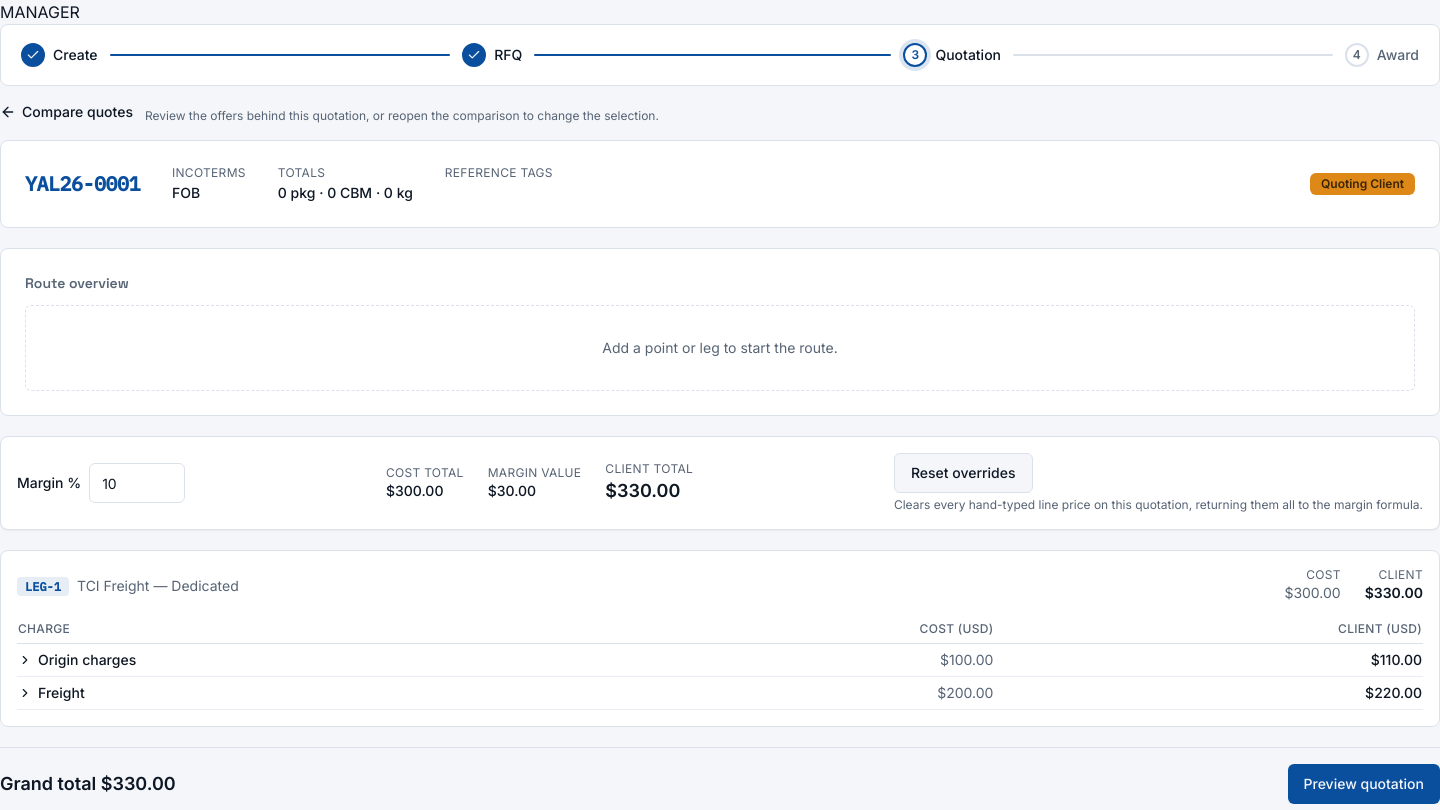
Test: QuotationPage › typing a margin recalculates unpinned lines and the grand total
Replace the text in the number field labelled "Margin %" with "20" at (137, 483), box [89, 463, 185, 503]
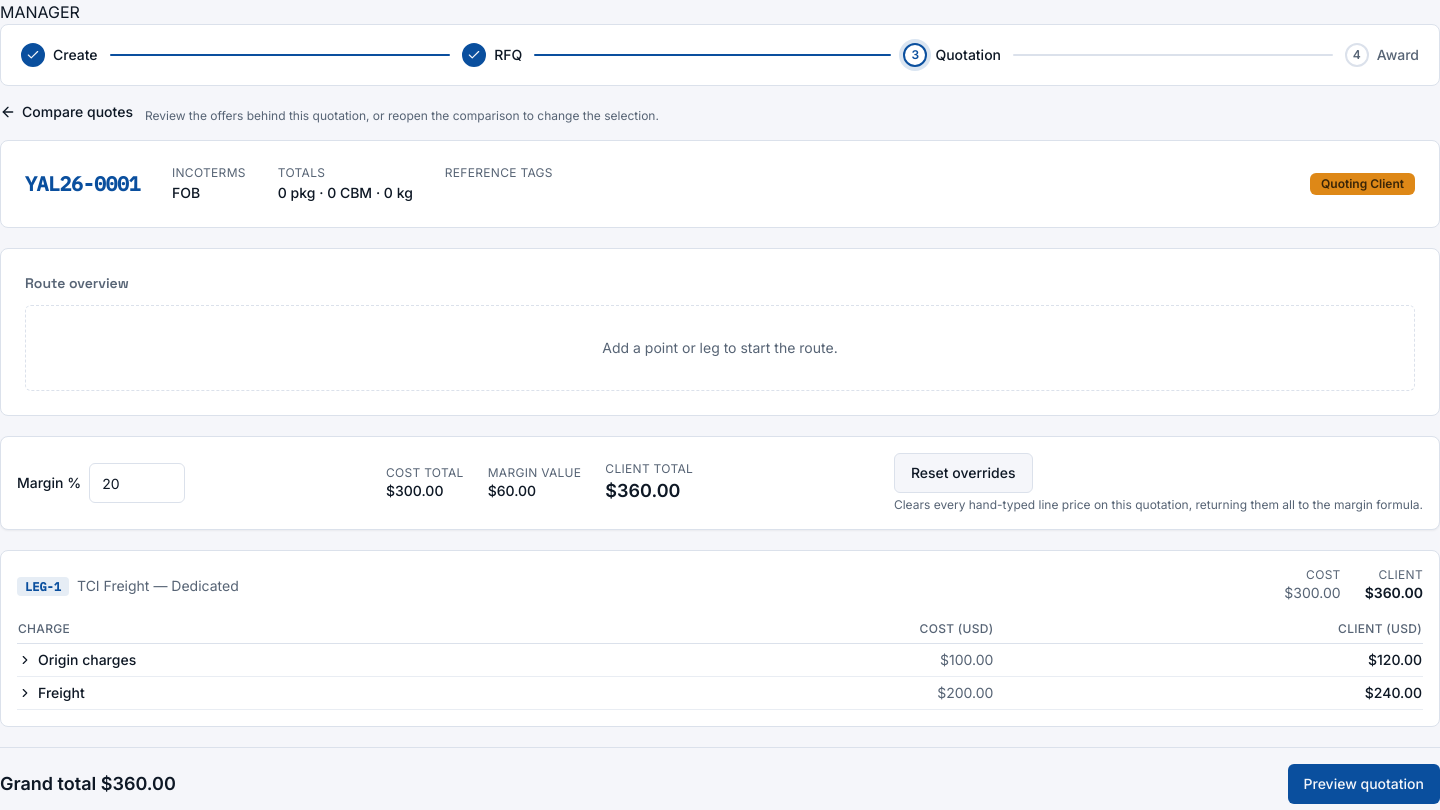
Expected: the text with test id "grand-total" shows "$360.00", [101, 773, 176, 794]
Click the button "Origin charges" at (77, 660), box [18, 650, 136, 670]
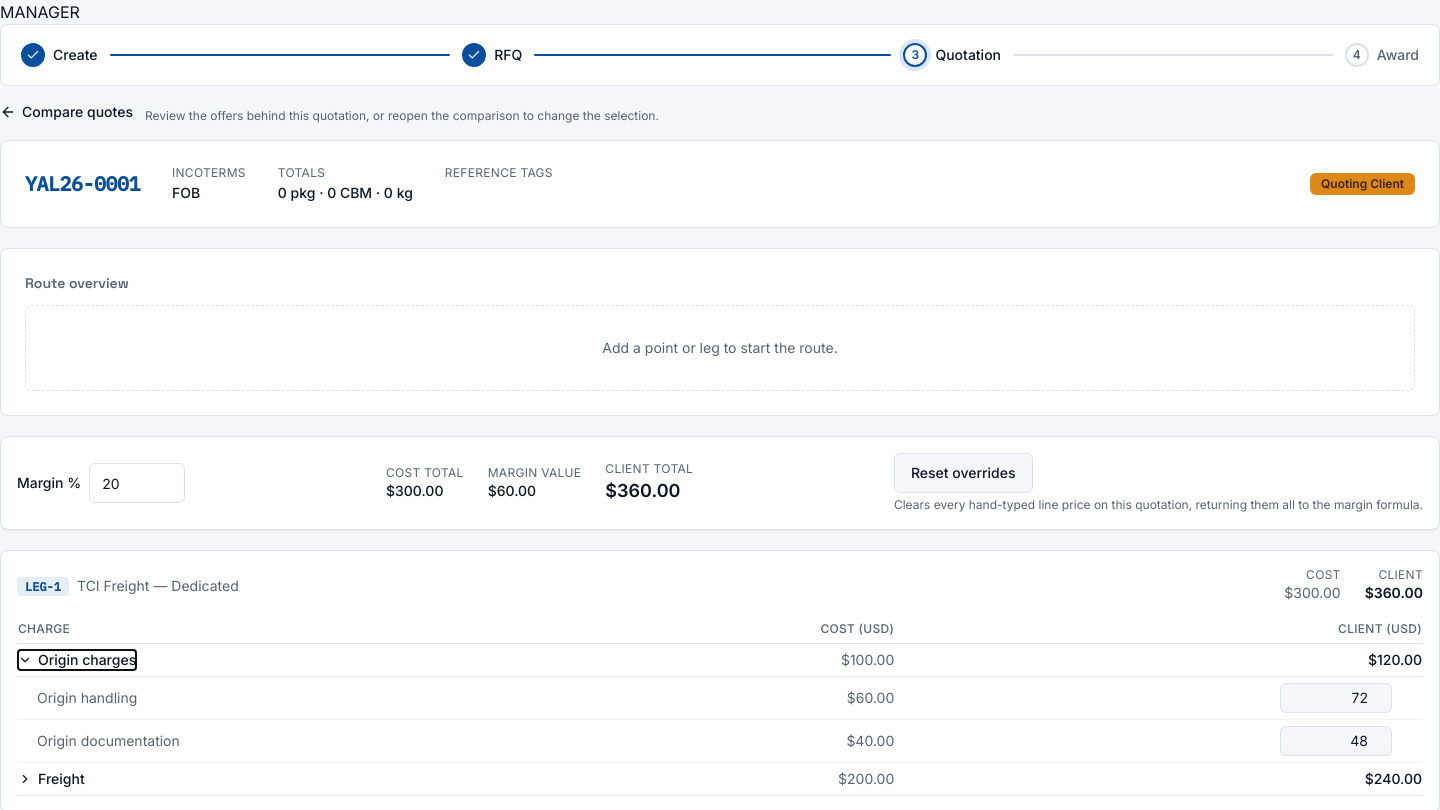
Expected: the number field showing "72" is shown, [1280, 683, 1392, 713]
